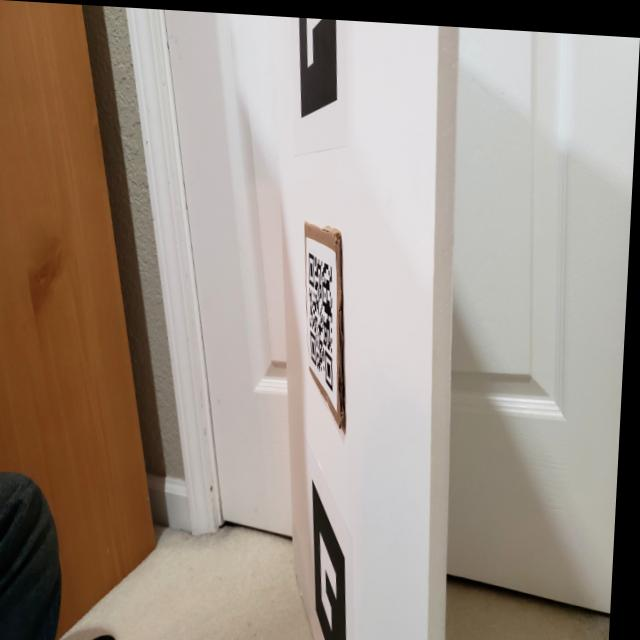QR_CODE: (298, 242, 364, 399)
